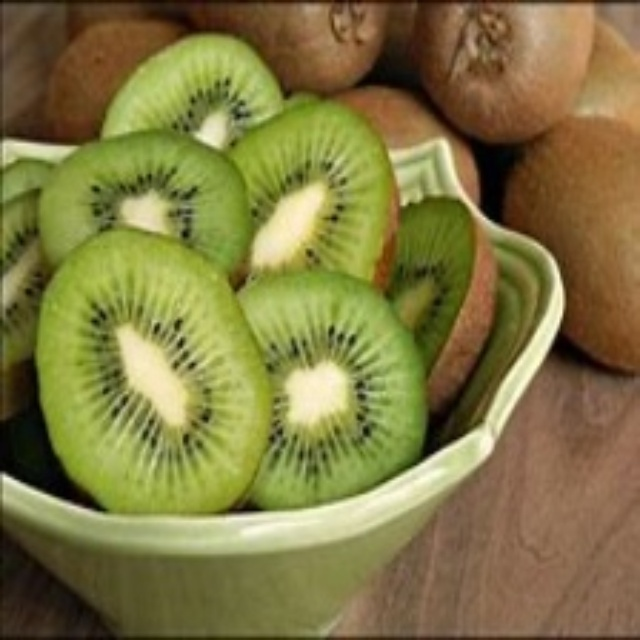kiwi: (48, 35, 432, 525), (494, 109, 639, 379), (422, 3, 597, 147)
